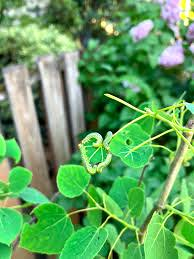Caterpillar: (79, 143, 96, 175), (80, 131, 102, 150), (96, 152, 112, 173), (102, 128, 114, 155)
